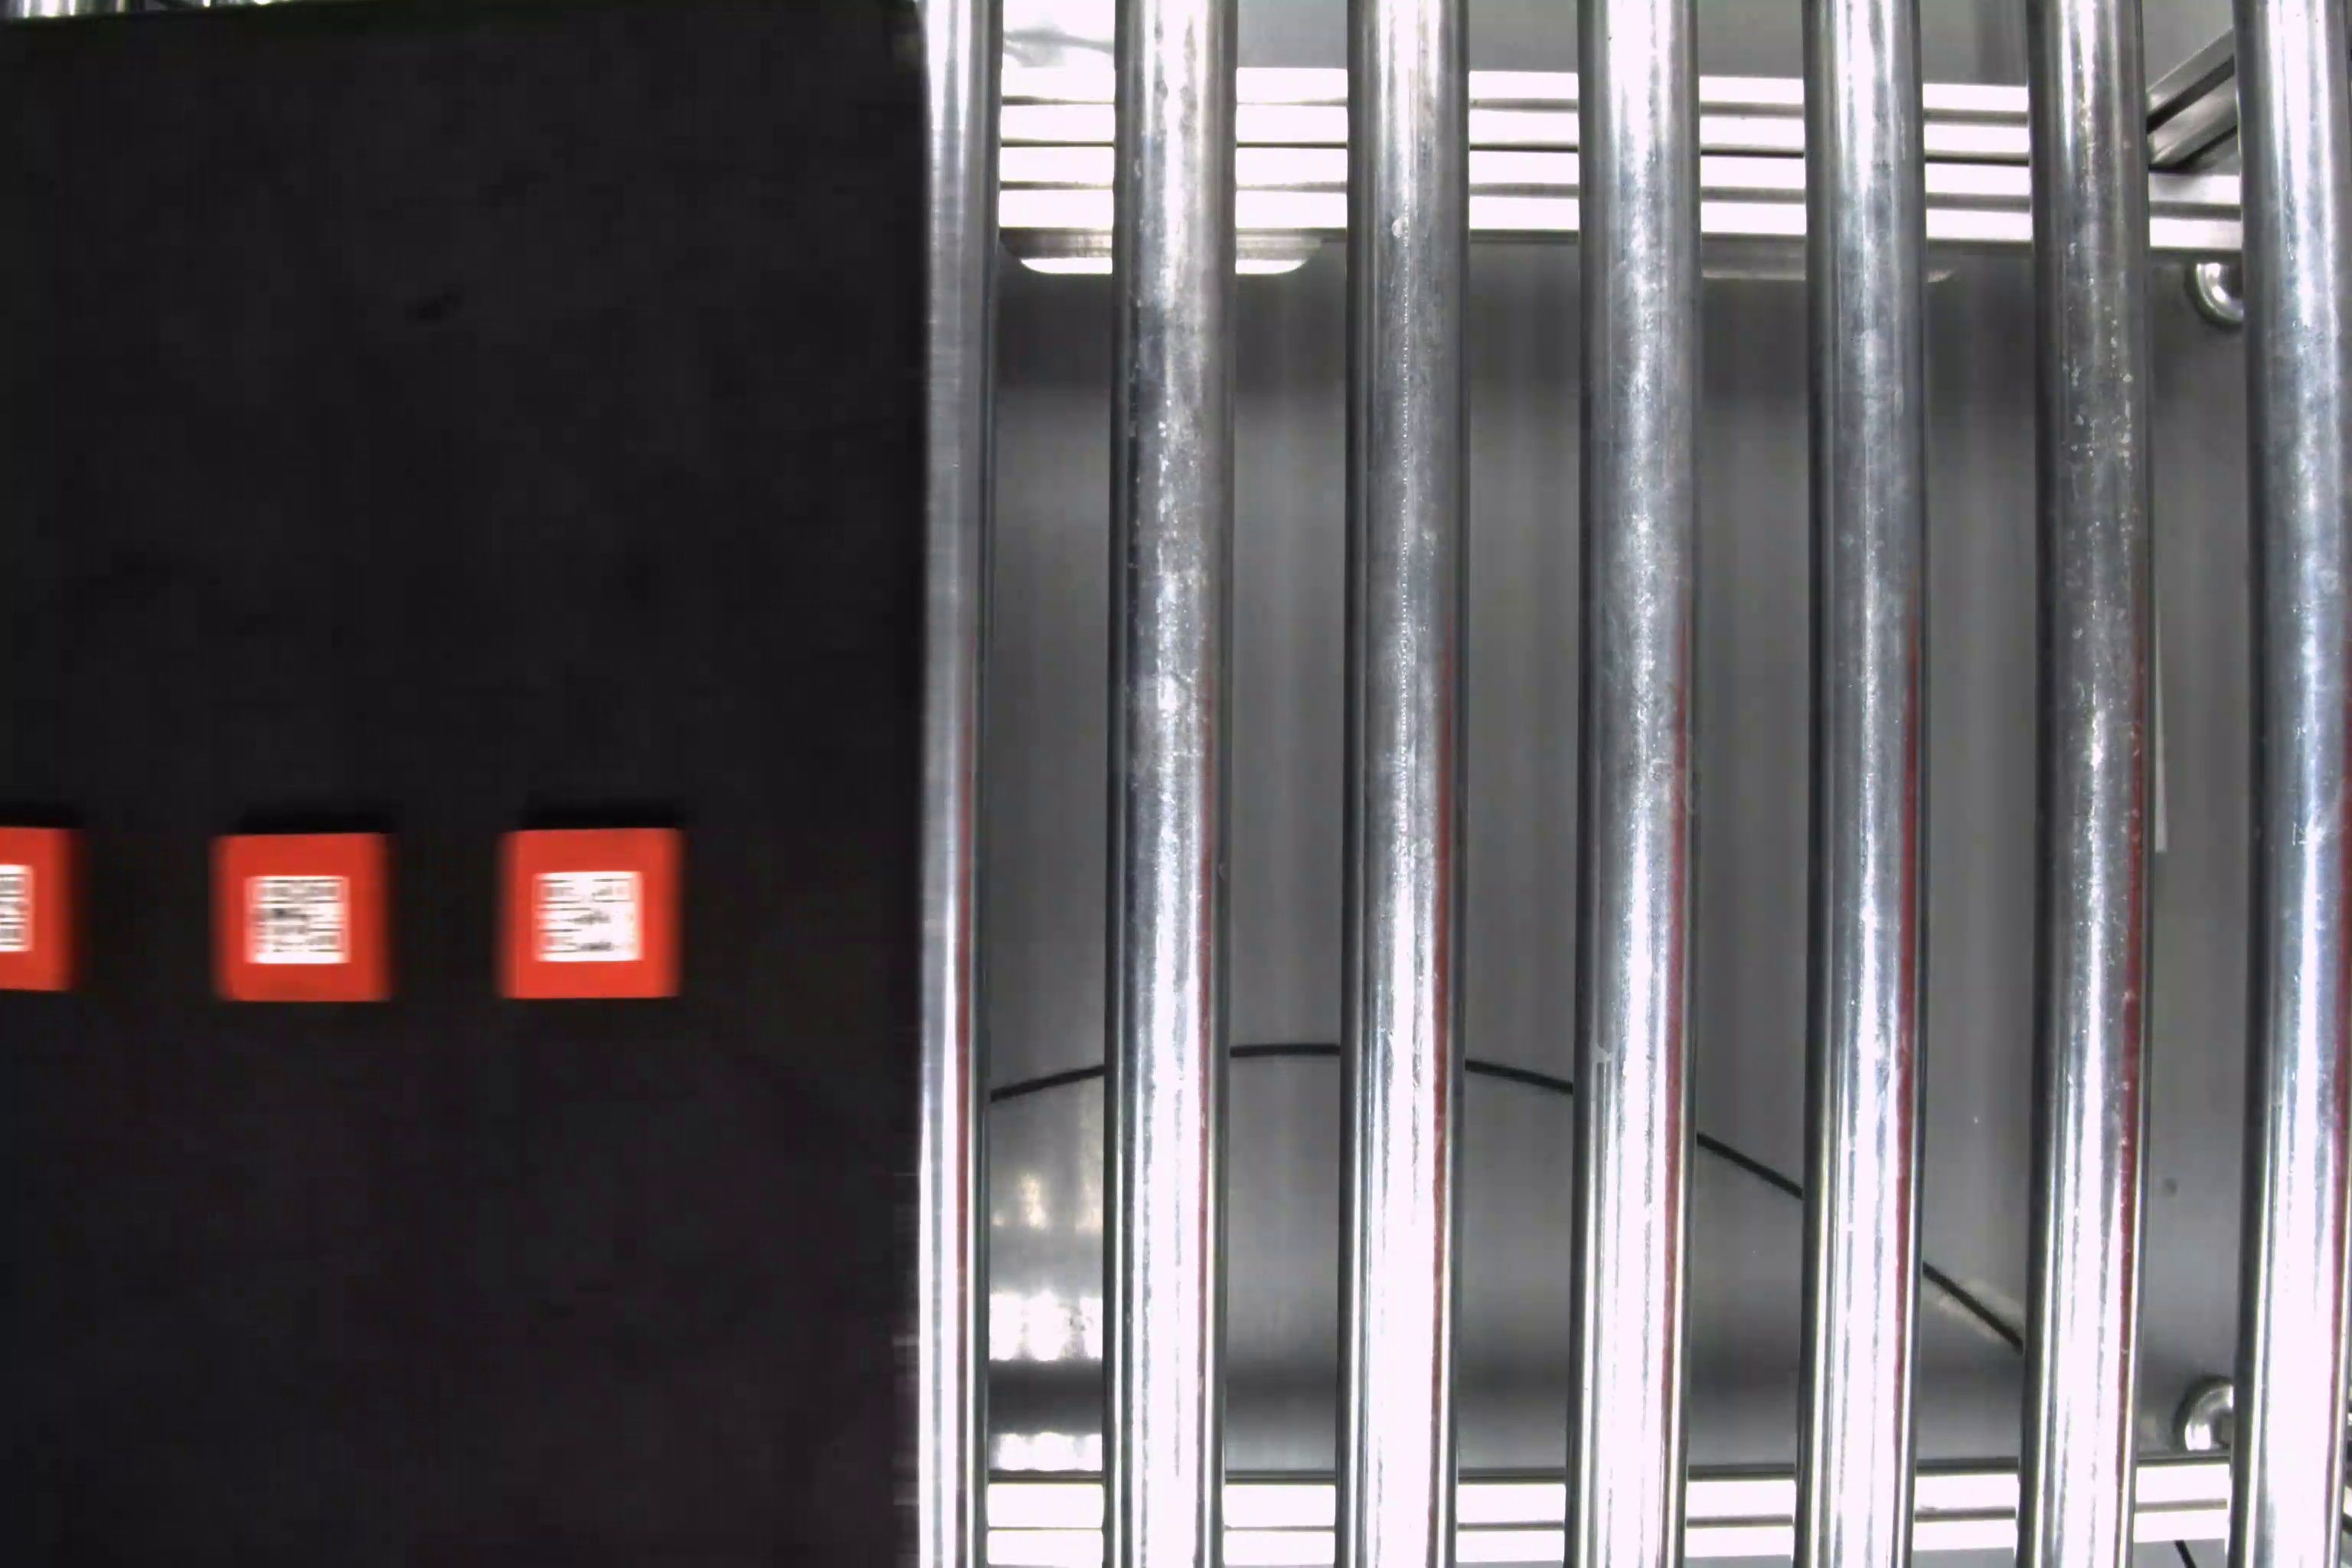wood: (493, 824, 695, 1004), (208, 826, 409, 1004), (5, 821, 84, 994)
